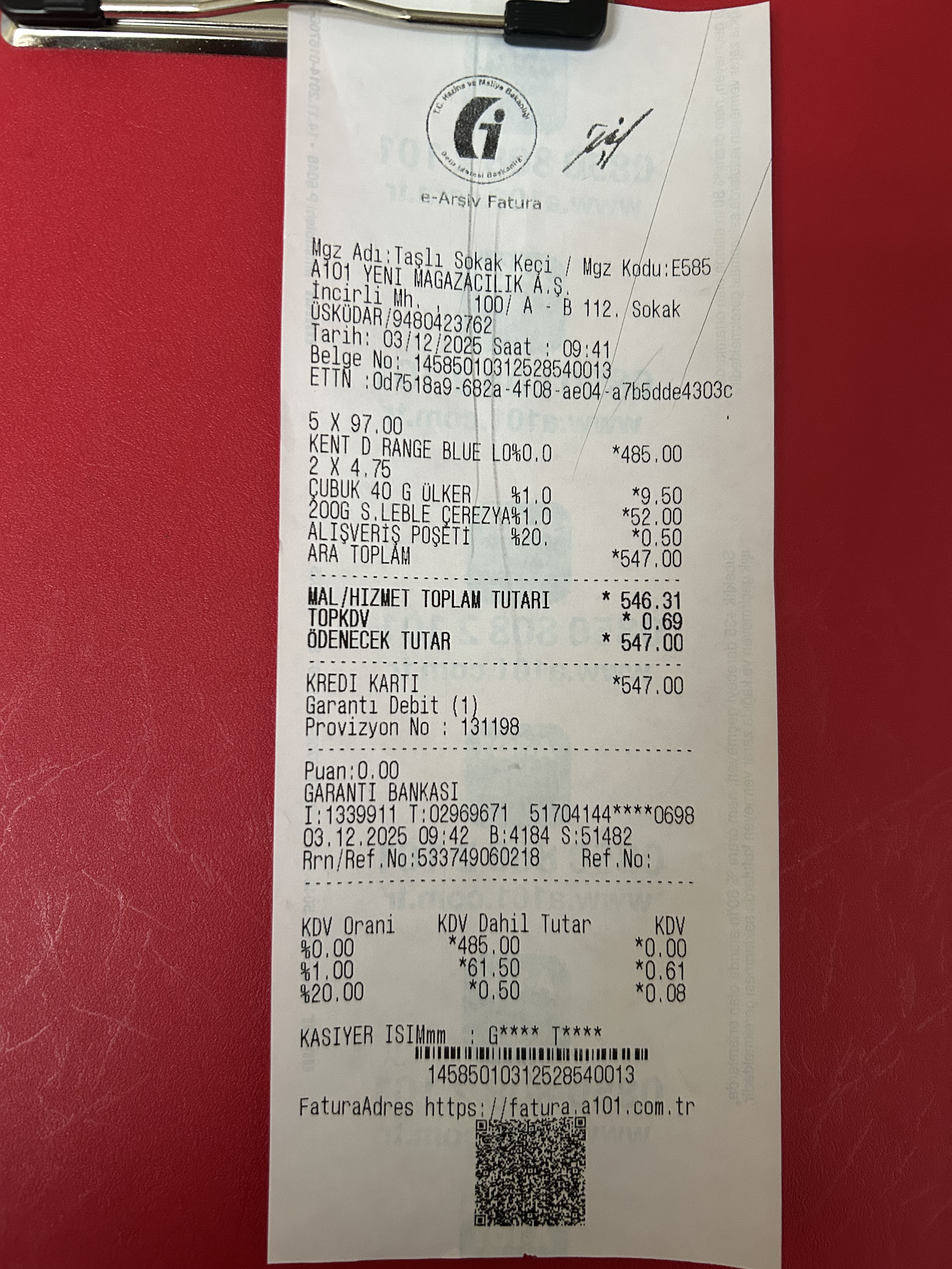date: (380, 327, 490, 357)
price: (614, 629, 691, 658)
workplace: (306, 233, 732, 319)
